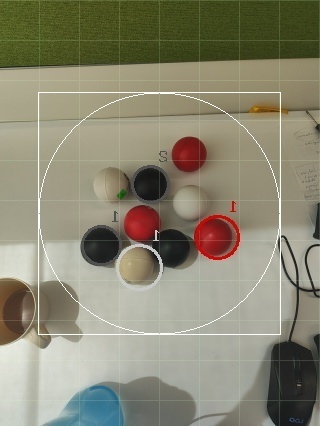Pelota blanca: (117, 374, 199, 425), (0, 276, 36, 347), (117, 244, 164, 291), (173, 182, 212, 222), (93, 164, 132, 203), (303, 241, 320, 299), (190, 411, 241, 425)
Pelota negra: (42, 385, 127, 425), (79, 222, 121, 267), (157, 228, 199, 270), (130, 164, 172, 200)
Pelota roja: (194, 212, 241, 262), (170, 134, 209, 174), (125, 204, 164, 243)
